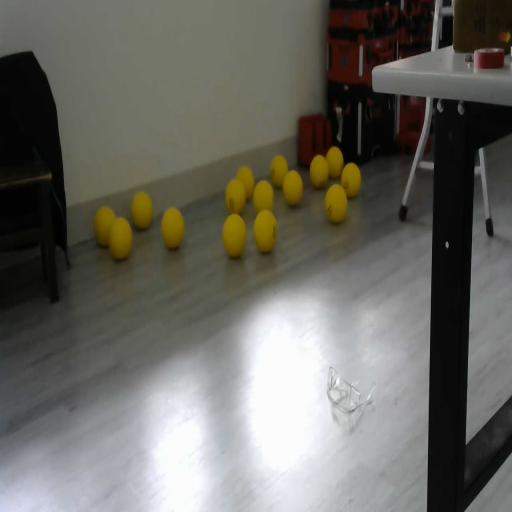FUEL: (222, 212, 248, 258), (252, 208, 278, 254), (160, 206, 185, 250), (108, 216, 133, 260), (325, 183, 348, 224), (252, 178, 275, 214), (131, 192, 152, 230), (340, 162, 362, 198), (282, 169, 303, 206), (236, 165, 255, 201), (326, 145, 344, 179), (270, 154, 288, 188), (310, 154, 328, 188)
